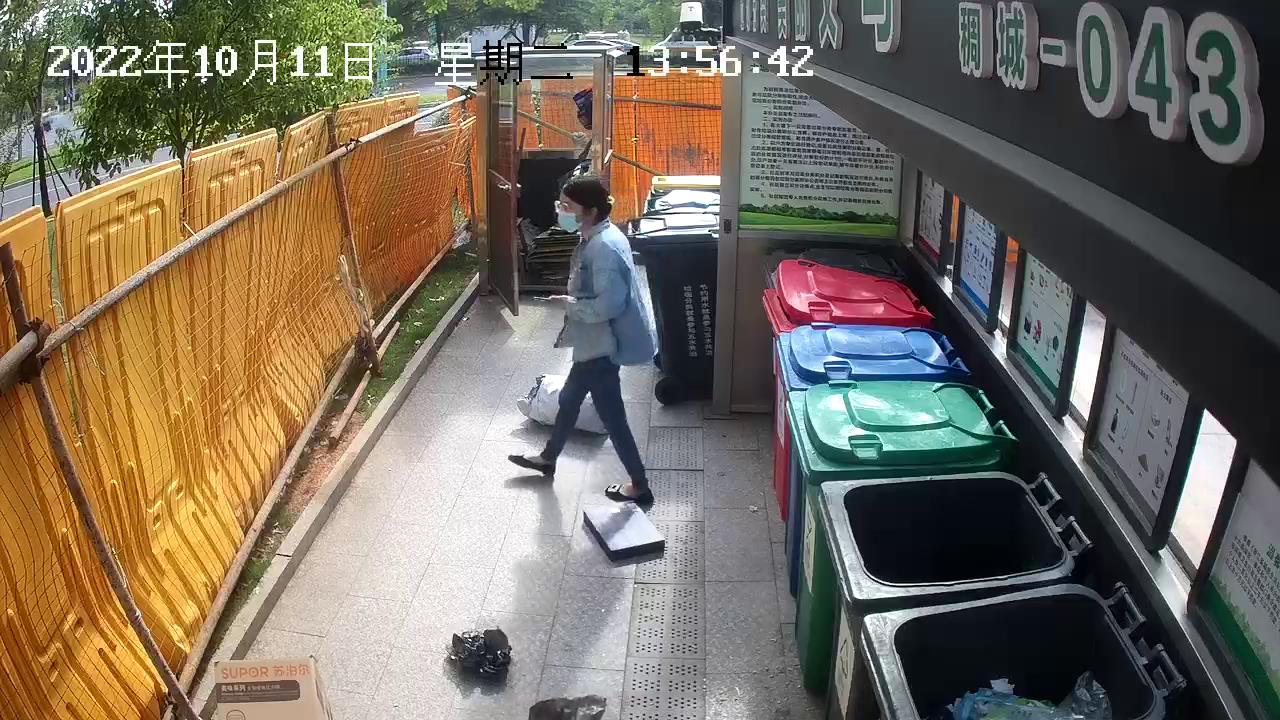garbage: (444, 623, 518, 684)
worker: (502, 173, 663, 510)
zhizhipin: (209, 650, 337, 720), (580, 499, 672, 562)
